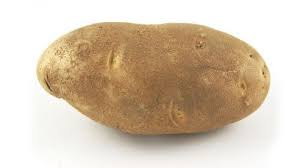potato: (35, 22, 268, 134)
